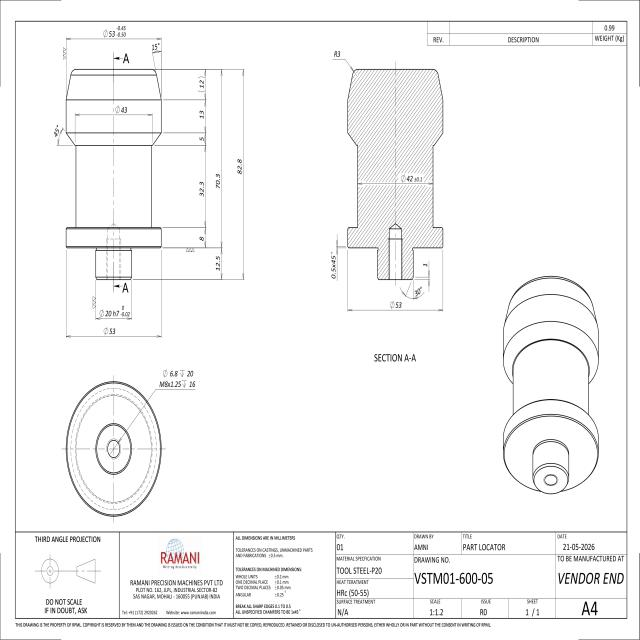dimension: (159, 368, 197, 389), (98, 304, 131, 318), (102, 24, 128, 39), (400, 174, 422, 183), (114, 104, 128, 116), (331, 250, 336, 280), (52, 124, 62, 138), (236, 157, 243, 177), (102, 326, 117, 335), (198, 75, 205, 93), (388, 300, 402, 309), (198, 180, 204, 198), (414, 286, 423, 298), (215, 173, 221, 190), (215, 255, 221, 272), (151, 42, 161, 52), (334, 49, 342, 58), (198, 110, 204, 120), (422, 262, 428, 268), (199, 136, 204, 142), (199, 236, 204, 242)
